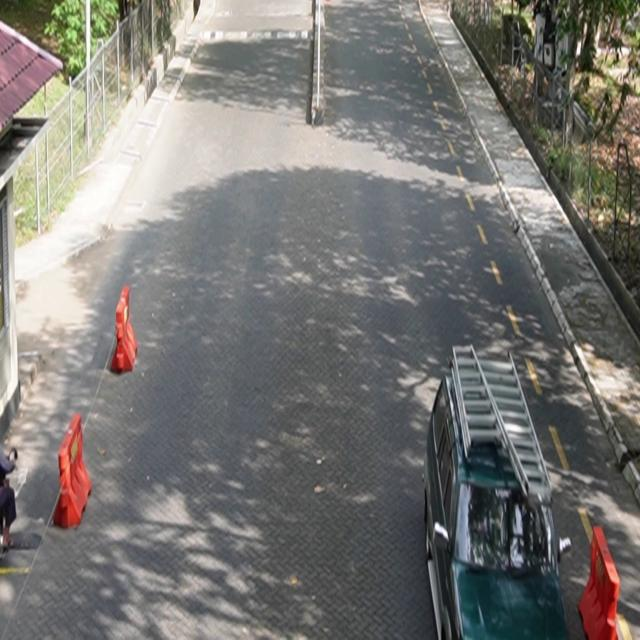bus: (423, 343, 572, 640)
